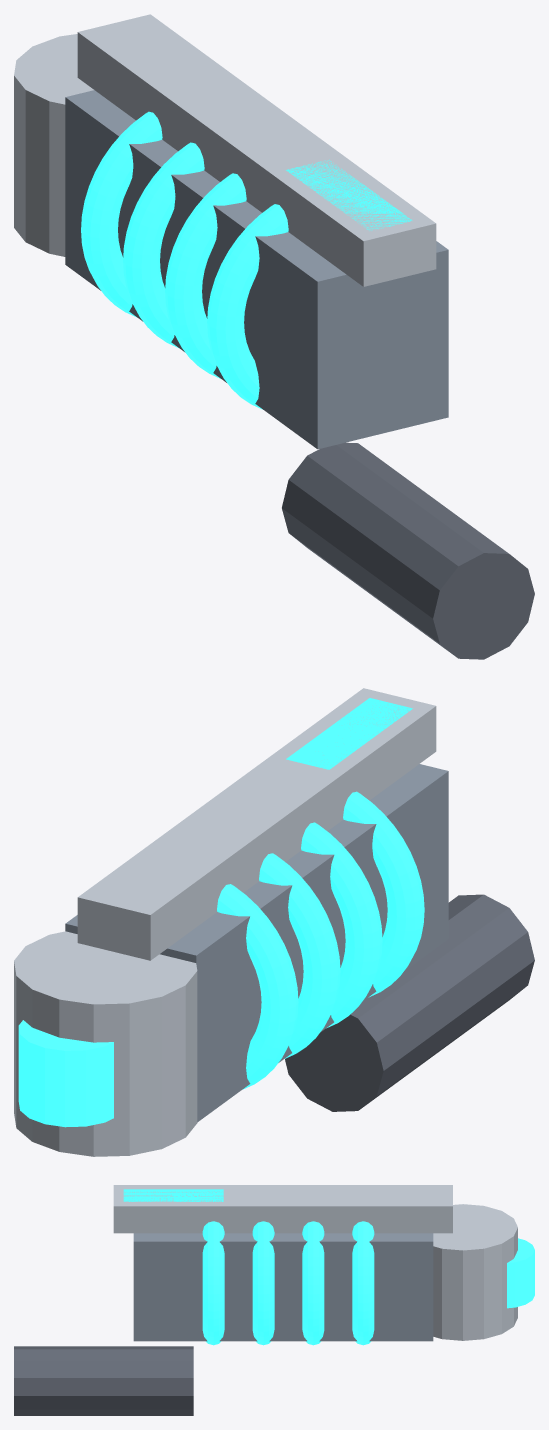
Rendered from tool_conduit.glb.
The picture shows the model from 3 angles, top to bottom: view 1: azimuth 30°, elevation 25°; view 2: azimuth 150°, elevation 25°; view 3: azimuth 270°, elevation 25°; orthographic projection. The views are drawn at different scales.
Parts seen in each view (by area): view 1: Body, Rail, Grip, Muzzle, Coil_3, Coil_2, Coil_1, Coil_0, Sight; view 2: Rail, Muzzle, Body, Grip, Core, Coil_0, Coil_2, Coil_3, Coil_1, Sight; view 3: Body, Rail, Grip, Muzzle, Coil_0, Coil_3, Coil_1, Coil_2, Core, Sight.
Boxes of the visible parts, x1,y1,x2,y2 form: Body: [65, 90, 448, 449]; Rail: [77, 14, 436, 286]; Grip: [282, 442, 534, 659]; Muzzle: [14, 34, 93, 256]; Coil_3: [207, 204, 288, 409]; Coil_2: [165, 173, 246, 378]; Coil_1: [123, 142, 204, 347]; Coil_0: [81, 111, 162, 317]; Sight: [286, 159, 412, 230]; Rail: [77, 688, 436, 960]; Muzzle: [14, 931, 197, 1156]; Body: [65, 764, 448, 1122]; Grip: [285, 894, 534, 1111]; Core: [18, 1020, 113, 1127]; Coil_0: [217, 884, 298, 1089]; Coil_2: [301, 822, 382, 1028]; Coil_3: [343, 791, 424, 997]; Coil_1: [259, 853, 340, 1058]; Sight: [286, 698, 412, 769]; Body: [133, 1233, 433, 1341]; Rail: [113, 1185, 452, 1233]; Grip: [14, 1346, 193, 1415]; Muzzle: [433, 1204, 517, 1340]; Coil_0: [352, 1221, 374, 1345]; Coil_3: [202, 1221, 224, 1345]; Coil_1: [302, 1221, 324, 1345]; Coil_2: [252, 1221, 274, 1345]; Core: [507, 1238, 534, 1308]; Sight: [123, 1189, 223, 1201].
Bounding box in the file's own units: 0.146 × 0.24 × 0.522.
